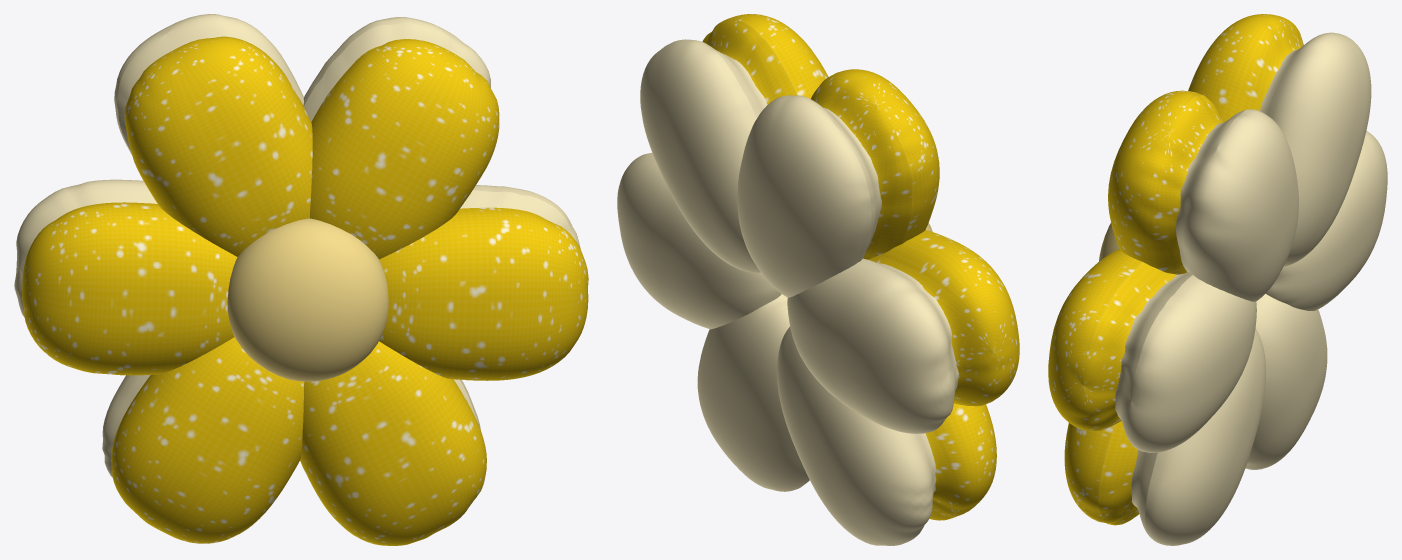
Rendered from pillow-flower.glb.
3 views of the same model, side by side, from view 1: azimuth 30°, elevation 25°; view 2: azimuth 150°, elevation 25°; view 3: azimuth 270°, elevation 25° (orthographic). The views are drawn at different scales.
Parts seen in each view (by area): view 1: Yellow front cushion (×6), Cream center, Cream backing cushion (×5); view 2: Cream backing cushion (×6), Yellow front cushion (×4); view 3: Cream backing cushion (×6), Yellow front cushion (×4).
Part boxes in pixels (x1,y1,x2,y2): Yellow front cushion (×6): (22, 36, 588, 545); Cream center: (227, 218, 388, 381); Cream backing cushion (×5): (14, 14, 580, 477); Cream backing cushion (×6): (617, 39, 959, 545); Yellow front cushion (×4): (702, 14, 1019, 520); Cream backing cushion (×6): (1115, 32, 1387, 545); Yellow front cushion (×4): (1048, 14, 1303, 525).
Size of the model in its own units: 3.28 by 3.2 by 2.14.
3 materials, 1 textured.
